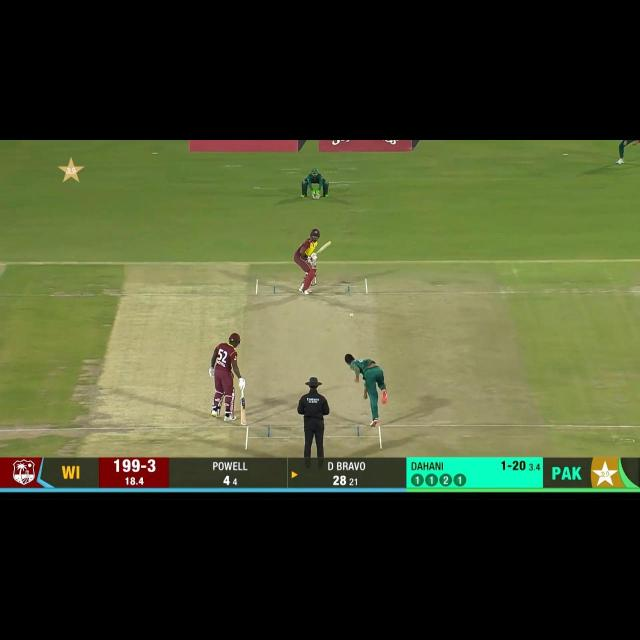bat: (315, 241, 333, 256), (239, 398, 247, 426)
toe: (238, 419, 247, 426), (326, 240, 333, 246)
